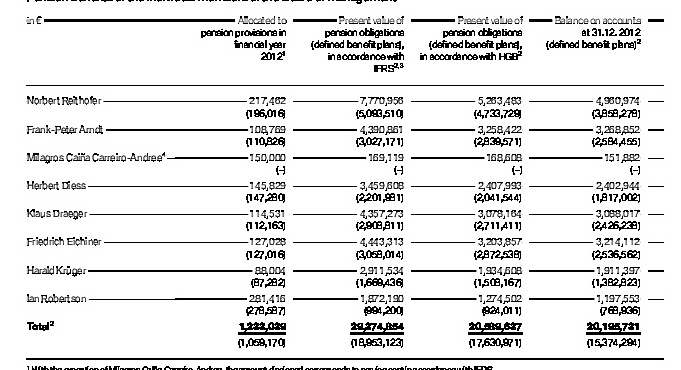table: (0, 0, 681, 370)
